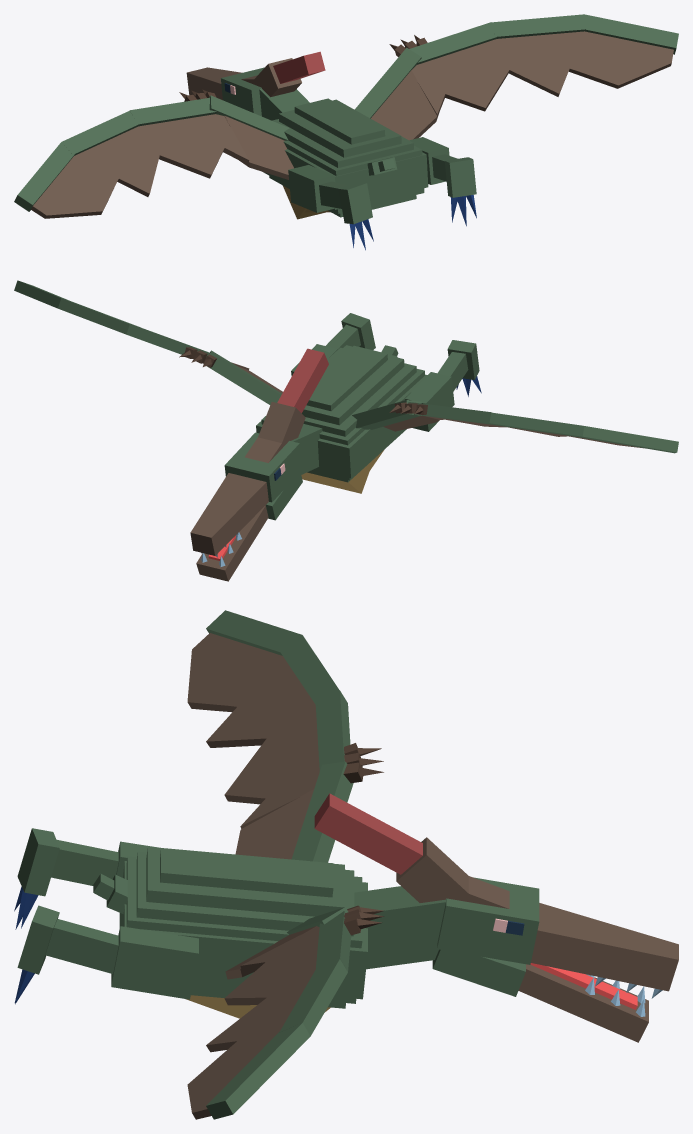
The model's file is pterosaur.obj.
The picture shows the model from 3 angles, top to bottom: view 1: azimuth 30°, elevation 25°; view 2: azimuth 150°, elevation 25°; view 3: azimuth 270°, elevation 25°; orthographic projection. The views are drawn at different scales.
Visible parts, largest first — view 1: LeafR1, LeafL1, torso, head, leg_L, leg_R, neck1, leg_L_lower, leg_R_lower; view 2: torso, head, LeafL1, LeafR1, leg_L, mouth, neck1, leg_R, leg_L_lower, leg_R_lower; view 3: LeafL1, head, torso, LeafR1, leg_R, mouth, neck1, leg_L, leg_R_lower, leg_L_lower.
Part boxes in pixels (box(x1,y1,x2,y2)): LeafR1: box(354, 14, 678, 140); LeafL1: box(14, 89, 293, 218); torso: box(263, 98, 428, 219); head: box(186, 51, 325, 116); leg_L: box(288, 165, 373, 250); leg_R: box(409, 137, 476, 226); neck1: box(259, 88, 309, 120); leg_L_lower: box(319, 181, 348, 208); leg_R_lower: box(432, 154, 457, 181); torso: box(256, 345, 427, 493); head: box(190, 348, 328, 557); LeafL1: box(352, 400, 678, 453); LeafR1: box(14, 280, 282, 404); leg_L: box(405, 340, 481, 431); mouth: box(196, 505, 268, 581); neck1: box(291, 424, 322, 474); leg_R: box(291, 313, 375, 375); leg_L_lower: box(438, 352, 468, 391); leg_R_lower: box(326, 324, 360, 349); LeafL1: box(187, 610, 383, 862); head: box(314, 793, 678, 998); torso: box(119, 847, 367, 1018); LeafR1: box(187, 905, 384, 1119); leg_R: box(14, 905, 198, 1004); mouth: box(518, 963, 648, 1042); neck1: box(354, 886, 445, 969); leg_L: box(14, 828, 160, 929); leg_R_lower: box(45, 919, 118, 973); leg_L_lower: box(51, 840, 118, 885).
Bounding box in the file's own units: 23.35 × 5.15 × 13.34.
